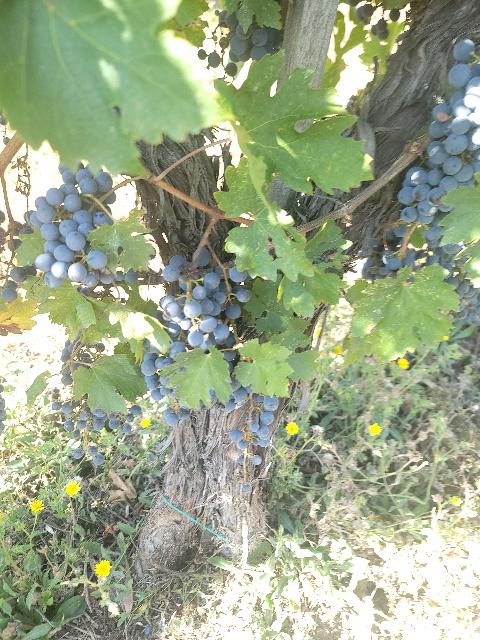grapes: (140, 249, 251, 400), (398, 39, 480, 220), (25, 164, 114, 289), (225, 379, 279, 466), (50, 394, 142, 440)
